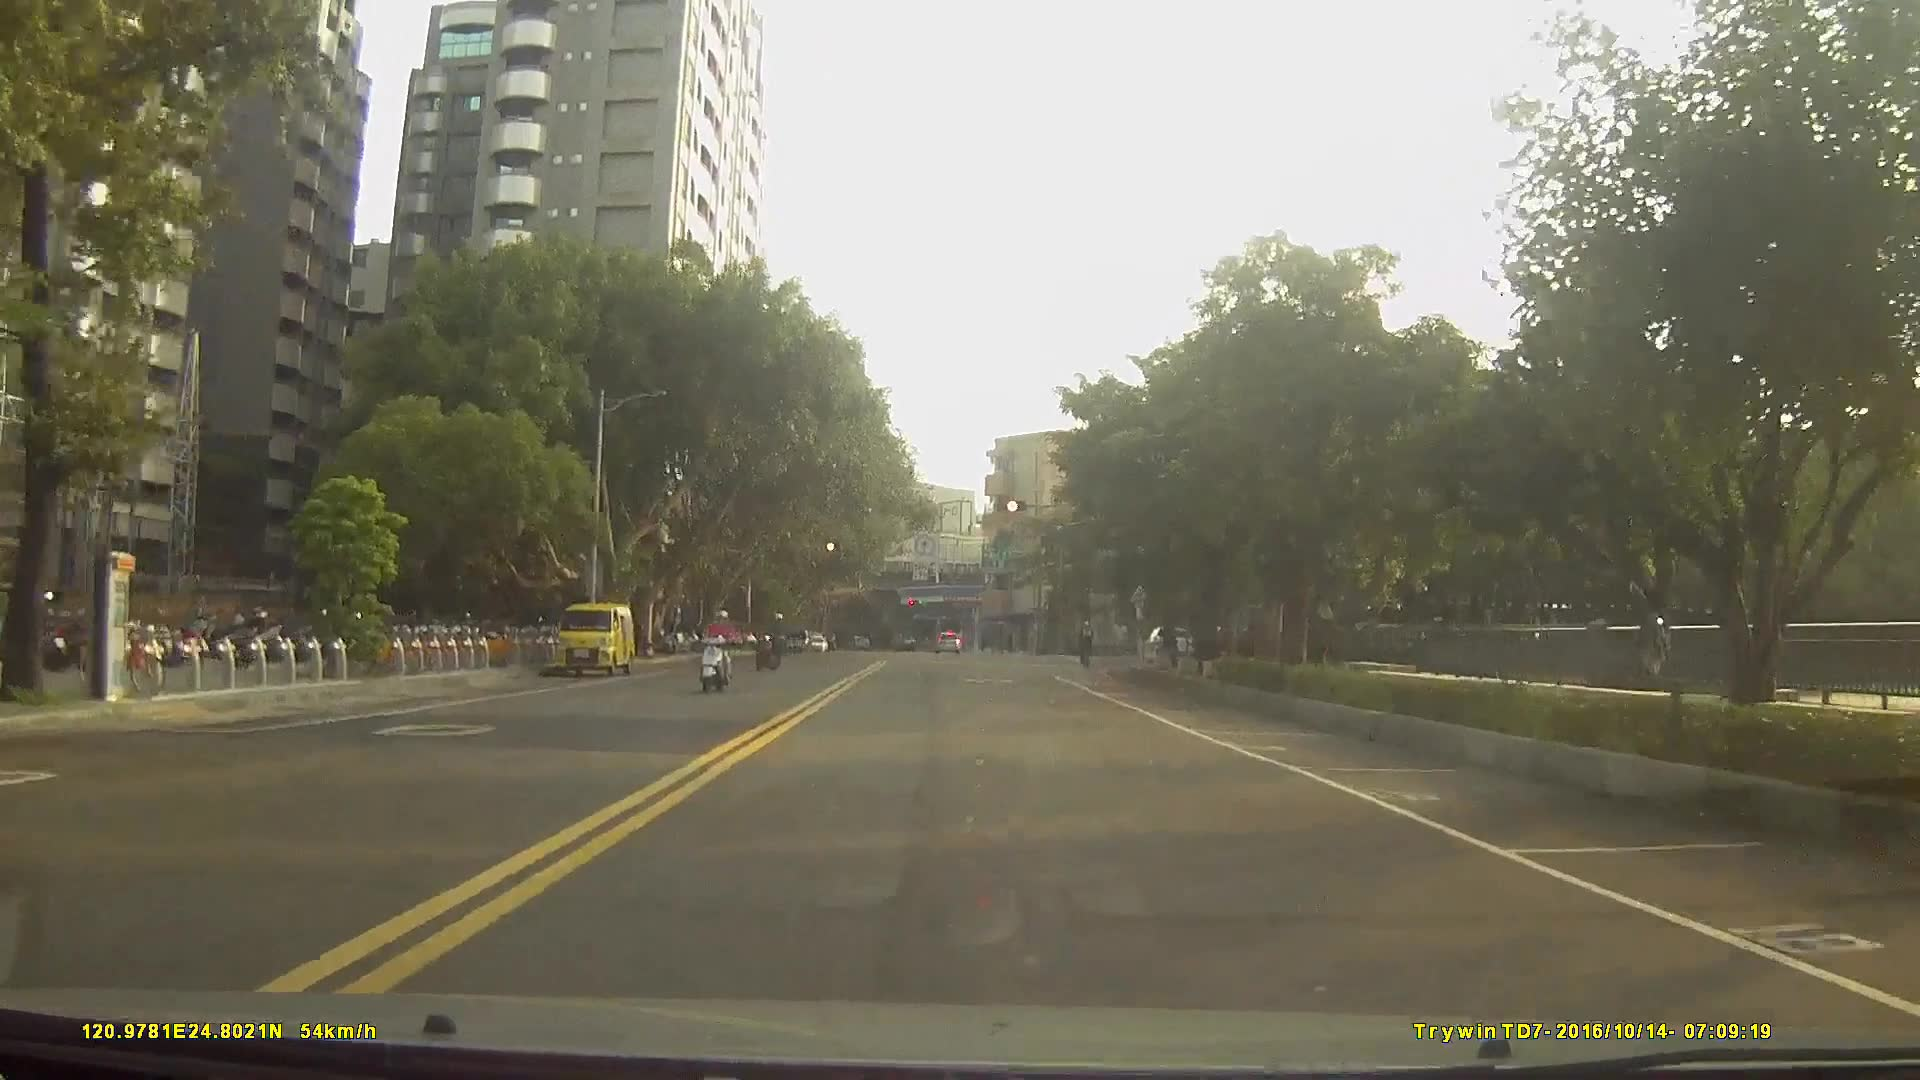pedestrian: (1112, 614, 1132, 660)
rider: (696, 610, 740, 695), (755, 609, 789, 671), (1077, 619, 1098, 672)
vehicle: (934, 629, 963, 655)
